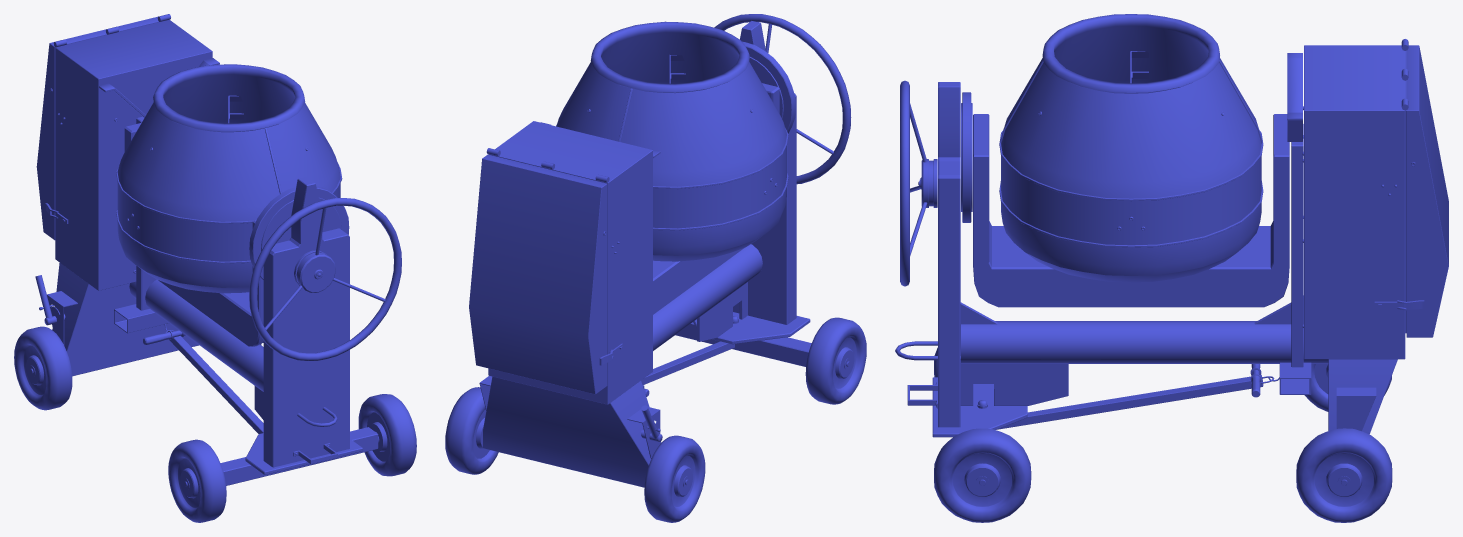
File: SM_CementMixer_LOD0.FBX
3 renders of one model, left to right at view 1: azimuth 30°, elevation 25°; view 2: azimuth 150°, elevation 25°; view 3: azimuth 270°, elevation 25°, orthographic. The views are drawn at different scales.
Parts seen in each view (by area): view 1: LOD0_Main part, LOD0_Basket, LOD0_BackTires, LOD0_Wheel, LOD0_FrontTires, LOD0_Trackting Part, LOD0_Pivot, LOD0_Pulley; view 2: LOD0_Main part, LOD0_Basket, LOD0_FrontTires, LOD0_BackTires, LOD0_Trackting Part, LOD0_Wheel, LOD0_Pivot, LOD0_Pulley; view 3: LOD0_Main part, LOD0_Basket, LOD0_Pivot, LOD0_FrontTires, LOD0_BackTires, LOD0_Trackting Part, LOD0_Wheel, LOD0_Pulley.
Part boxes in pixels (x1,y1,x2,y2): LOD0_Main part: (36,14,362,474); LOD0_Basket: (116,64,342,293); LOD0_BackTires: (168,394,416,522); LOD0_Wheel: (249,198,401,360); LOD0_FrontTires: (14,326,261,410); LOD0_Trackting Part: (143,330,378,485); LOD0_Pivot: (124,123,263,346); LOD0_Pulley: (249,186,349,280); LOD0_Main part: (469,21,810,487); LOD0_Basket: (556,21,788,261); LOD0_FrontTires: (445,387,705,522); LOD0_BackTires: (805,317,866,404); LOD0_Trackting Part: (641,316,811,396); LOD0_Wheel: (714,14,851,184); LOD0_Pivot: (653,83,779,314); LOD0_Pulley: (742,41,795,133); LOD0_Main part: (895,39,1448,437); LOD0_Basket: (999,14,1263,282); LOD0_Pivot: (973,114,1289,307); LOD0_FrontTires: (1296,364,1392,522); LOD0_BackTires: (934,347,1031,522); LOD0_Trackting Part: (977,364,1274,429); LOD0_Wheel: (900,80,937,286); LOD0_Pulley: (961,92,972,222).
Bounding box in the file's own units: 0.89 × 1.41 × 1.7.
